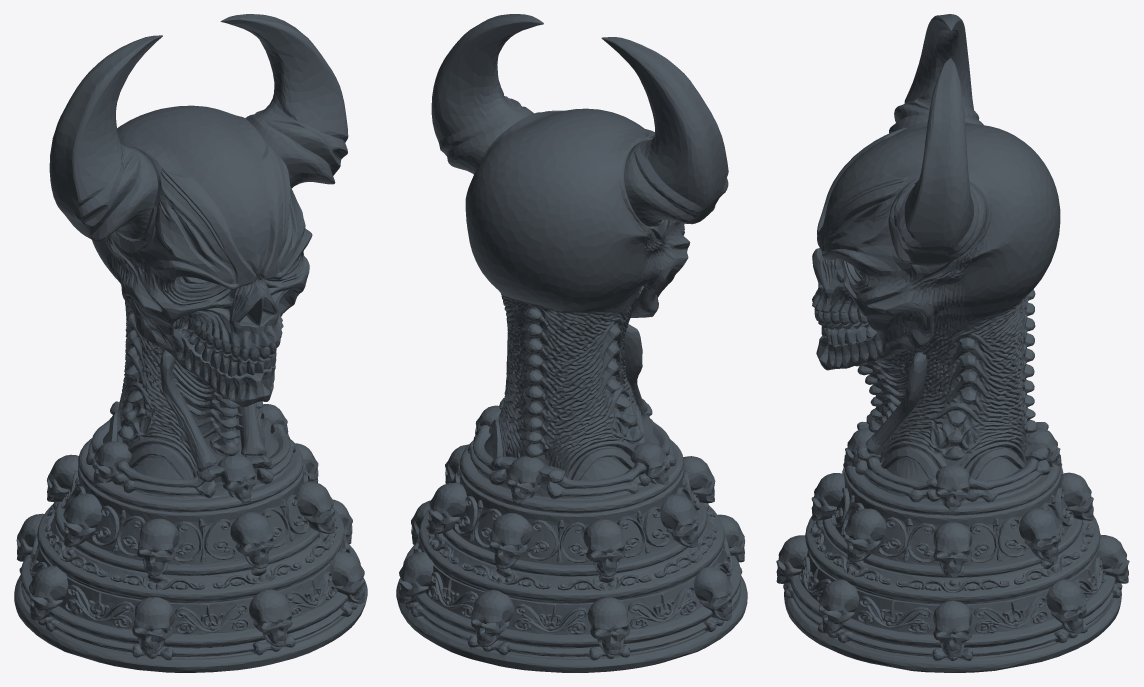
3 renders of one model, left to right at view 1: azimuth 30°, elevation 25°; view 2: azimuth 150°, elevation 25°; view 3: azimuth 270°, elevation 25°, orthographic. The views are drawn at different scales.
Parts seen in each view (by area): view 1: 3MF Object.009; view 2: 3MF Object.009; view 3: 3MF Object.009.
Boxes of the visible parts, x1,y1,x2,y2 form: 3MF Object.009: [14, 14, 367, 672]; 3MF Object.009: [396, 14, 747, 672]; 3MF Object.009: [776, 14, 1129, 672].
Size of the model in its own units: 0.0383 by 0.0658 by 0.0377.
1 material, 1 textured.
